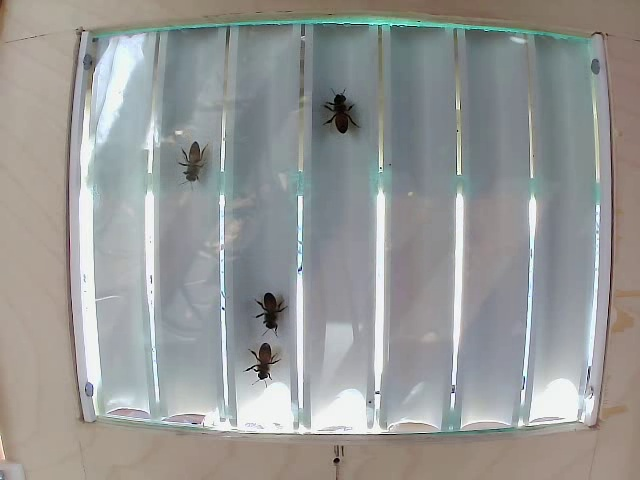bee: (246, 277, 282, 334), (248, 335, 286, 378), (183, 144, 218, 184), (315, 95, 342, 128)
